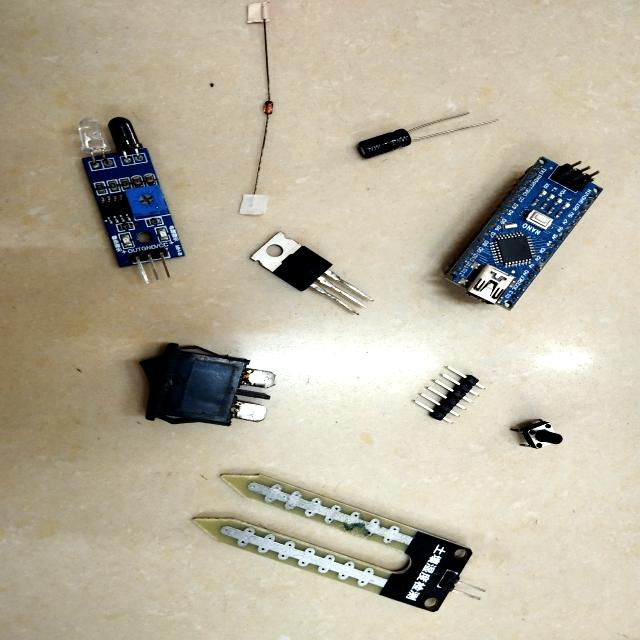capacitor: (357, 129, 411, 159)
